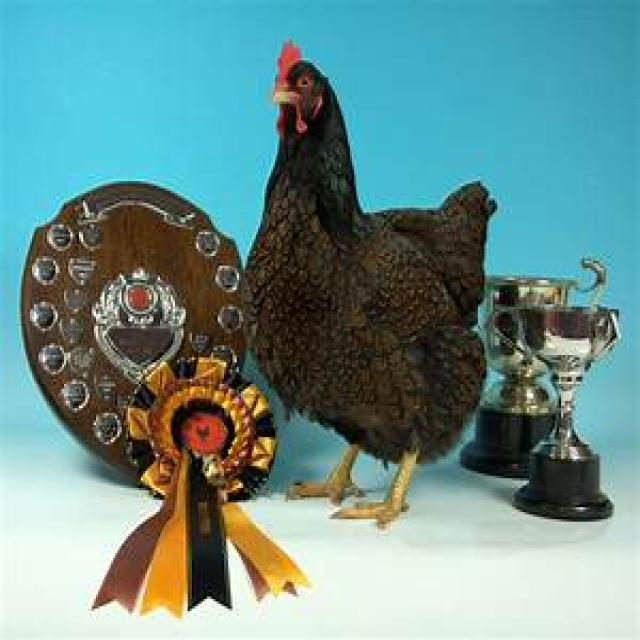animal: (239, 36, 497, 529)
